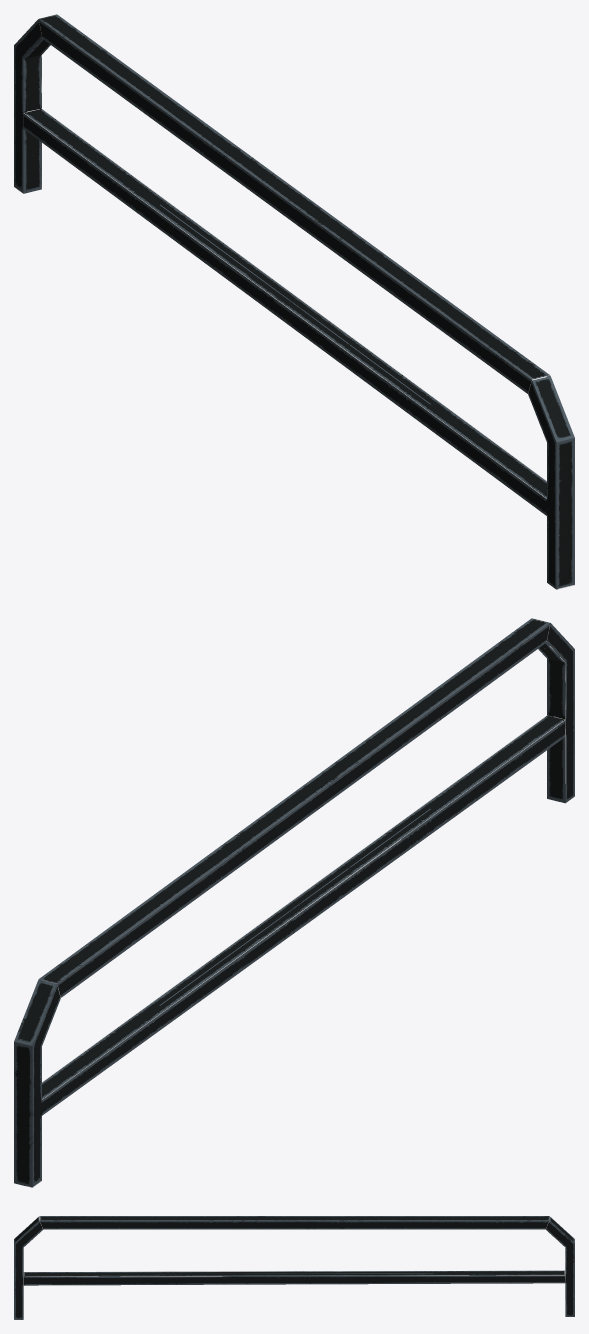
File: railing.fbx
The picture shows the model from 3 angles, top to bottom: view 1: azimuth 30°, elevation 25°; view 2: azimuth 150°, elevation 25°; view 3: azimuth 270°, elevation 25°; orthographic projection. The views are drawn at different scales.
Parts seen in each view (by area): view 1: Railling_Lowpoly006; view 2: Railling_Lowpoly006; view 3: Railling_Lowpoly006.
Boxes of the visible parts, bbox=[...] form: Railling_Lowpoly006: bbox=[14, 14, 574, 589]; Railling_Lowpoly006: bbox=[14, 618, 574, 1187]; Railling_Lowpoly006: bbox=[14, 1216, 574, 1319].
Bounding box in the file's own units: 6.77 × 67.01 × 344.
